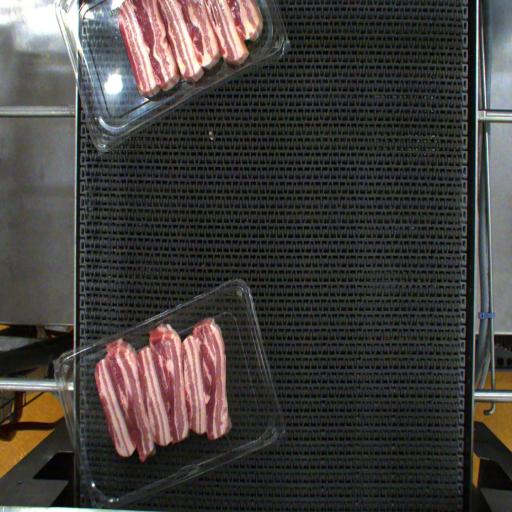packaging-error: (104, 328, 125, 352)
